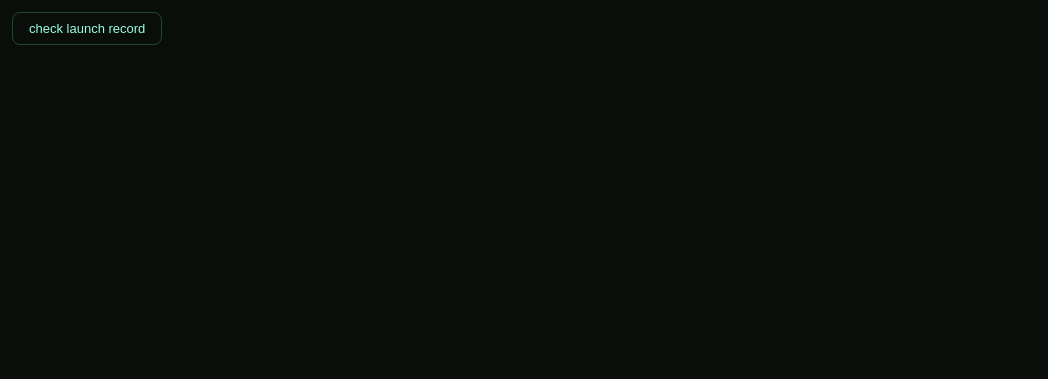
Scenario: pratica di lancio: ingresso solo locale e anteprima › un nodo con la via attestata spenta mostra l'esito, non il silenzio
This screenshot has width=1048, height=379.
Click the button "check launch record" at (87, 28), box [12, 12, 162, 45]
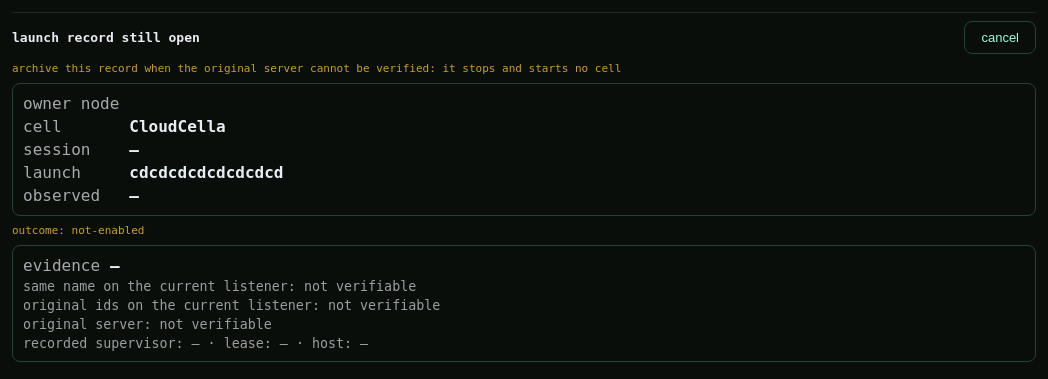
Expected: the text "outcome: not-enabled" is shown, [12, 224, 144, 237]
